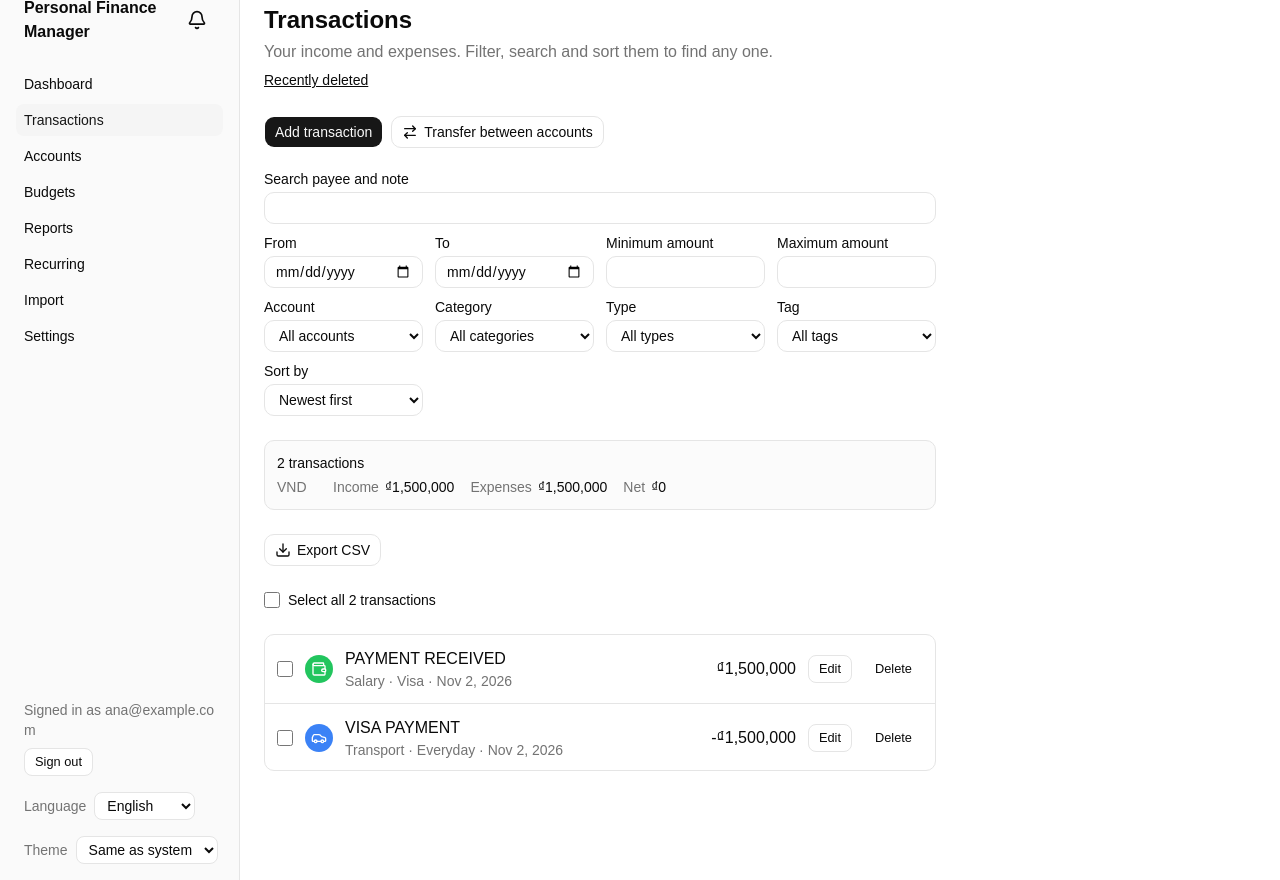
it: marking as a transfer › joins an expense on one account and income on another, which the user picks, into the two legs of one transfer
The image size is (1280, 880).
Click the checkbox named "Select VISA PAYMENT".
click(285, 738)  # box [277,730,293,746]
(page scrolled)
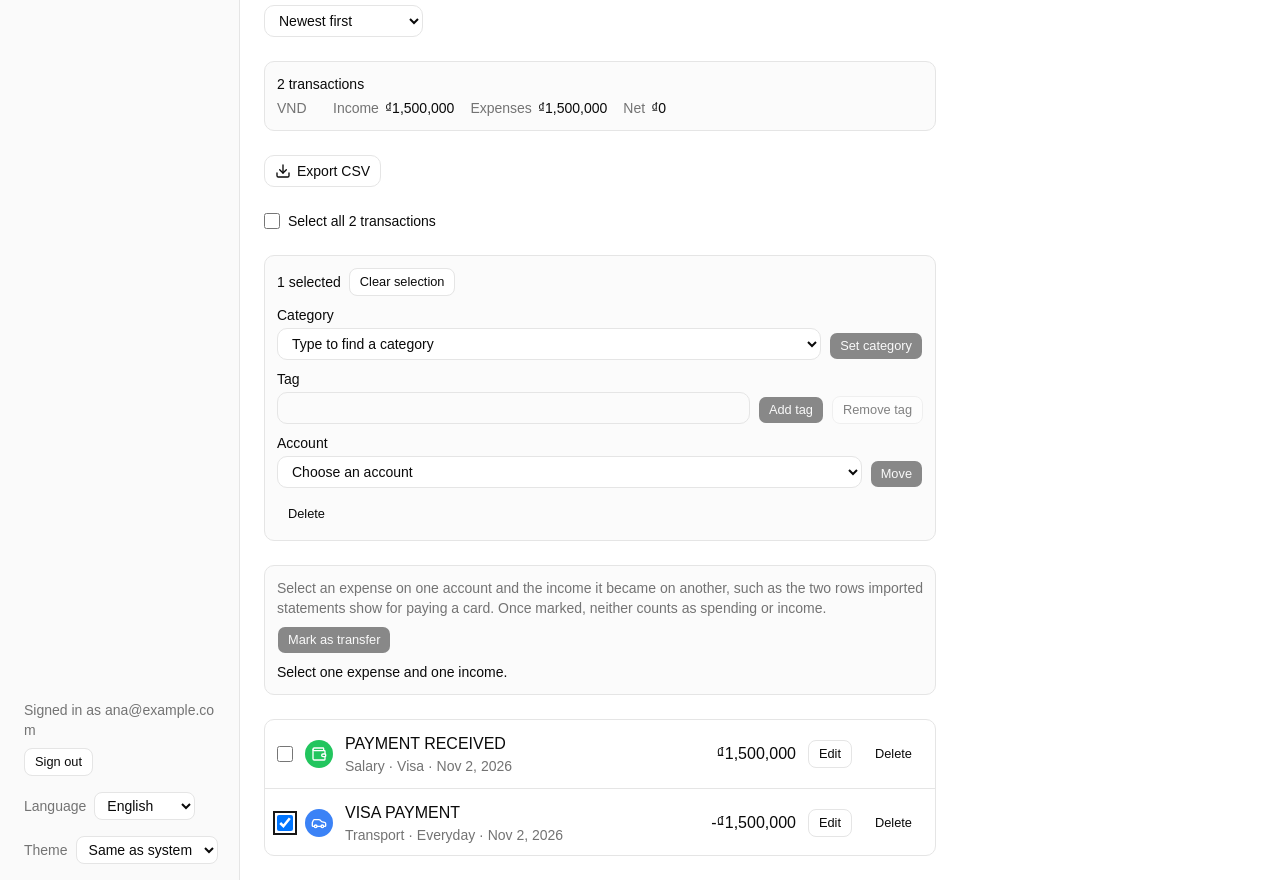
Click the checkbox named "Select PAYMENT RECEIVED".
click(285, 754)  # box [277,746,293,762]
(page scrolled)
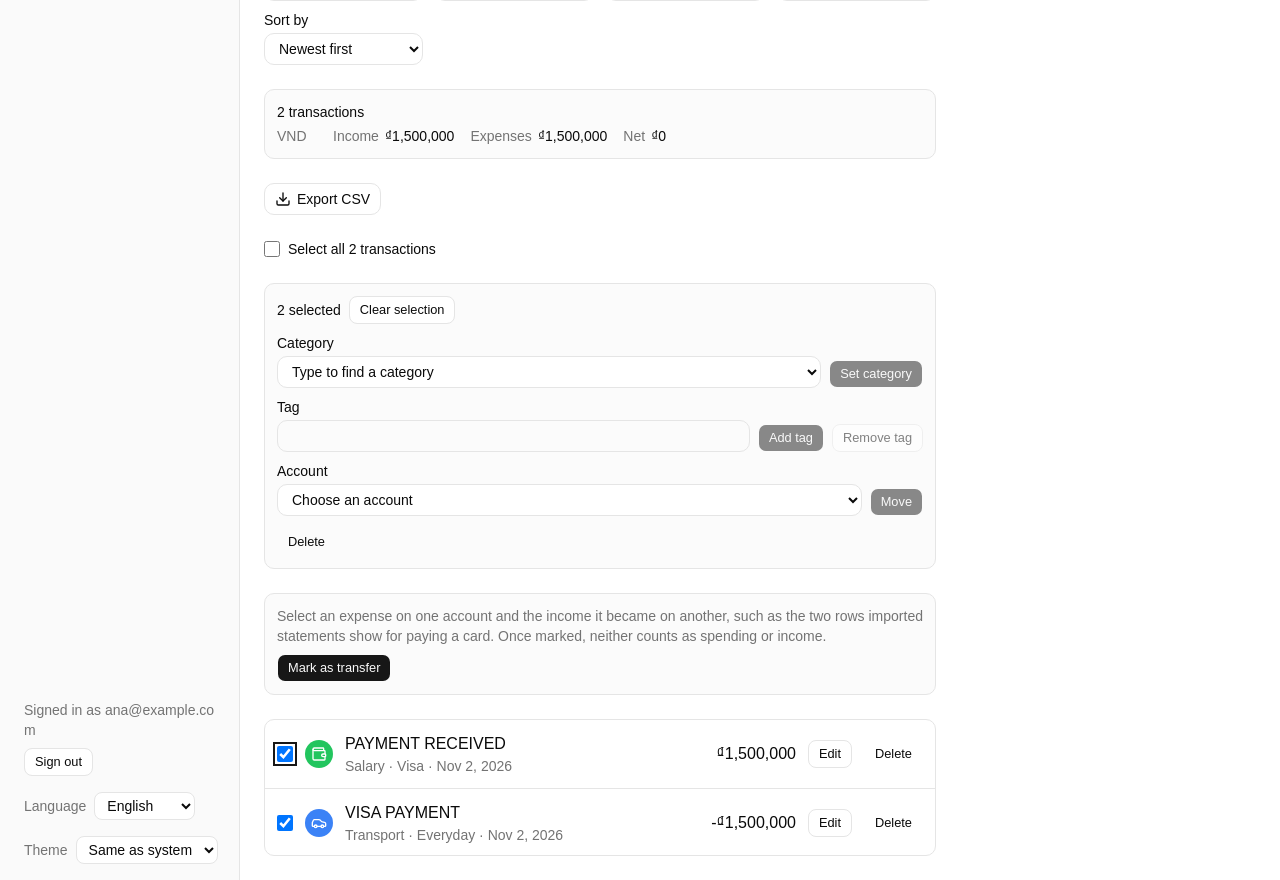
Click the button "Mark as transfer".
click(334, 668)  # box [277,654,392,682]
(page scrolled)
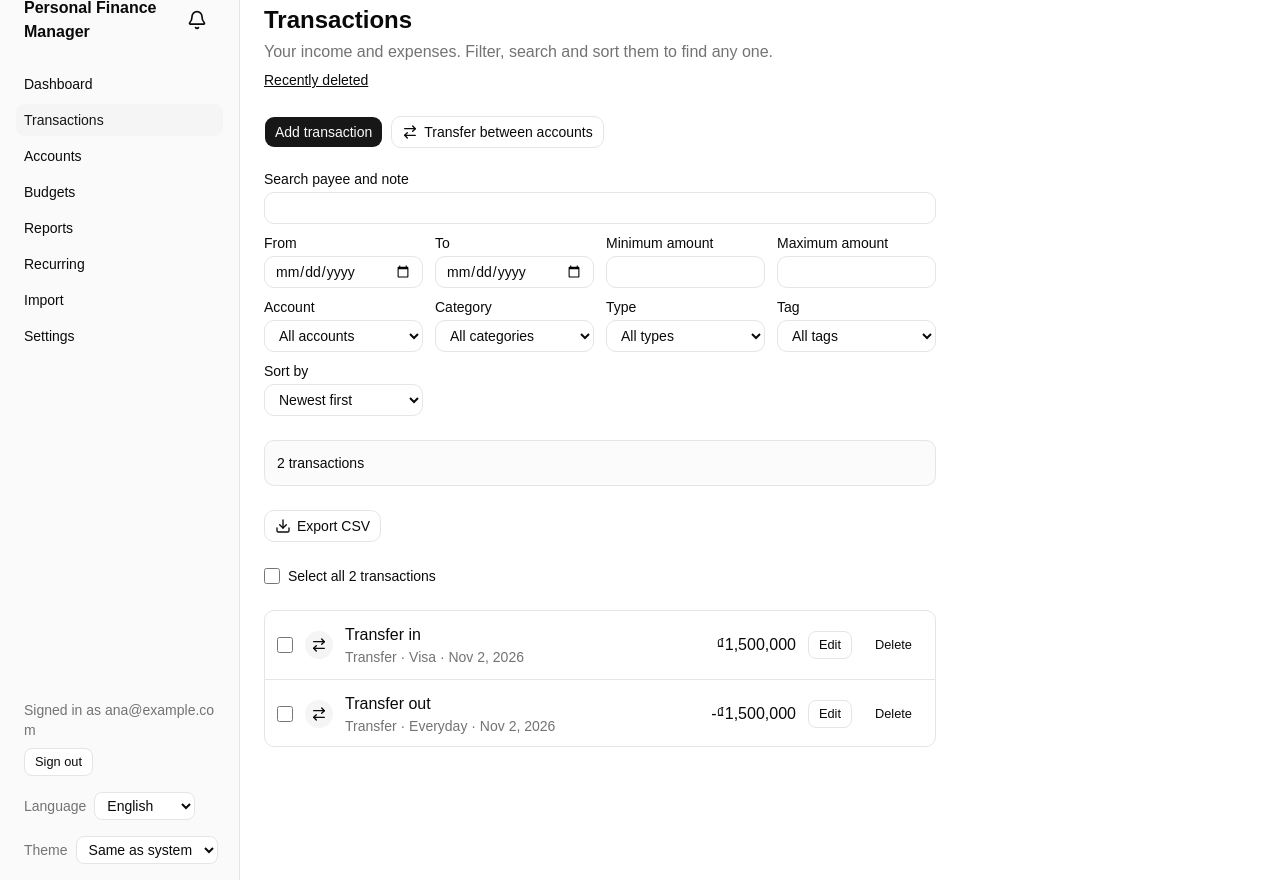
Expected: the element named "Total of these transactions" does not show "1,500,000", [264,440,936,486]
Now the button "Mark as transfer" is gone
